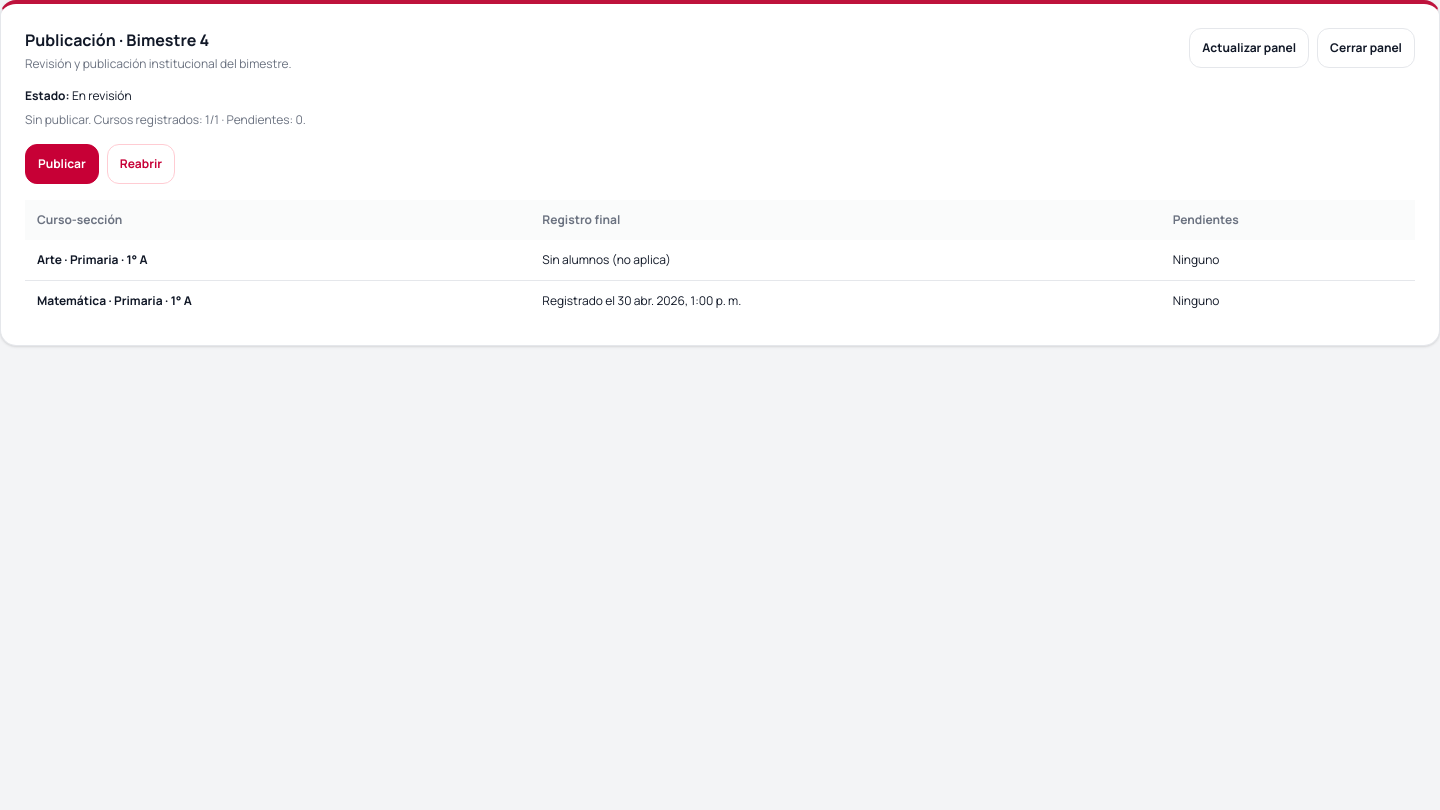
Test: publish: explicit confirmation, the shown preparationRevision, one POST and success only after a confirming reload
Click the button "Publicar": {"x": 62, "y": 164} left=25, top=144, right=99, bottom=184
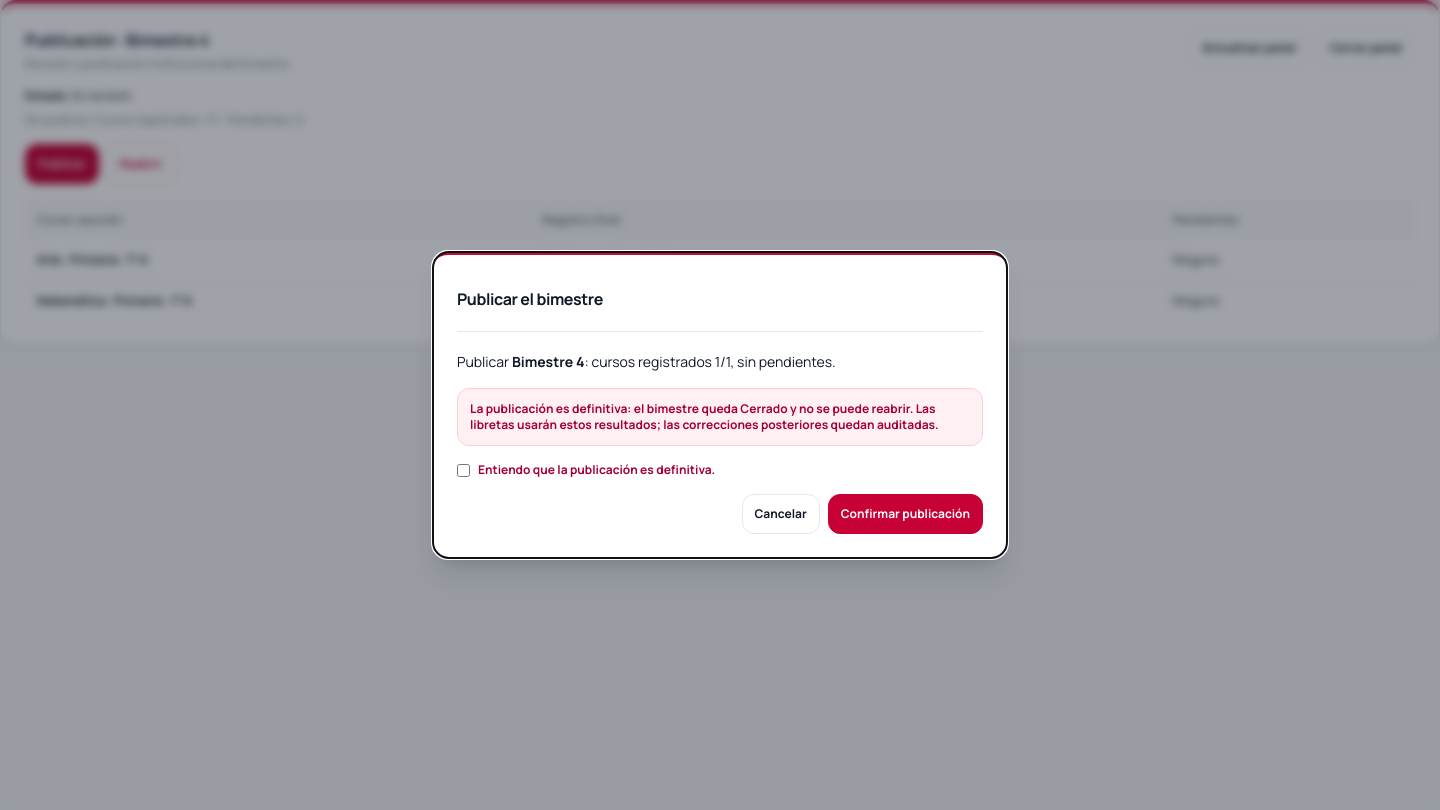
Result: the text "La publicación es definitiva: el bimestre queda Cerrado y no se puede reabrir" is shown at left=470, top=400, right=939, bottom=433
Submit the form, box left=457, top=352, right=983, bottom=534
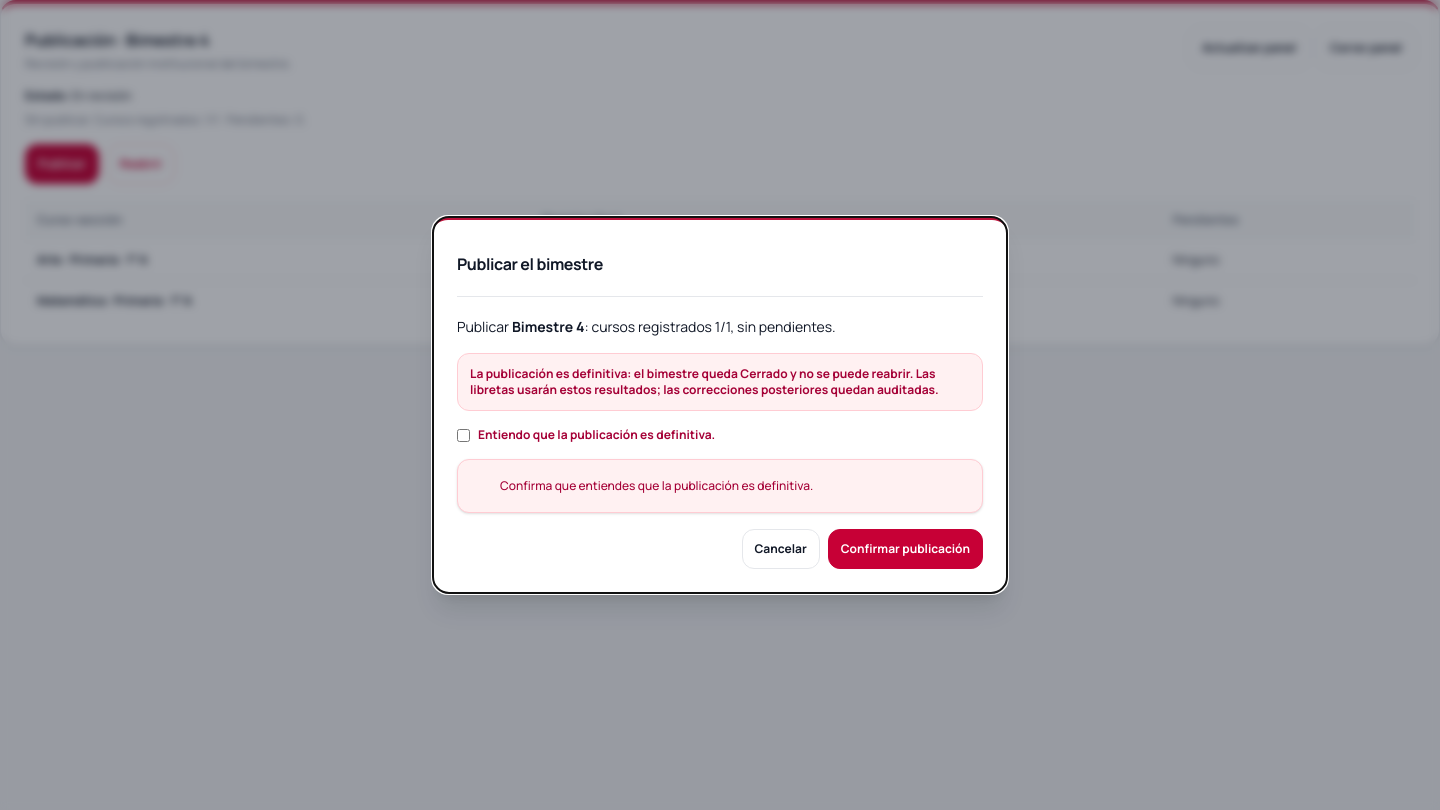
Result: the text "Confirma que entiendes que la publicación es definitiva" is shown at left=500, top=477, right=813, bottom=494
Click the checkbox labelled "Entiendo que la publicación es definitiva.": {"x": 464, "y": 435} left=457, top=428, right=470, bottom=442
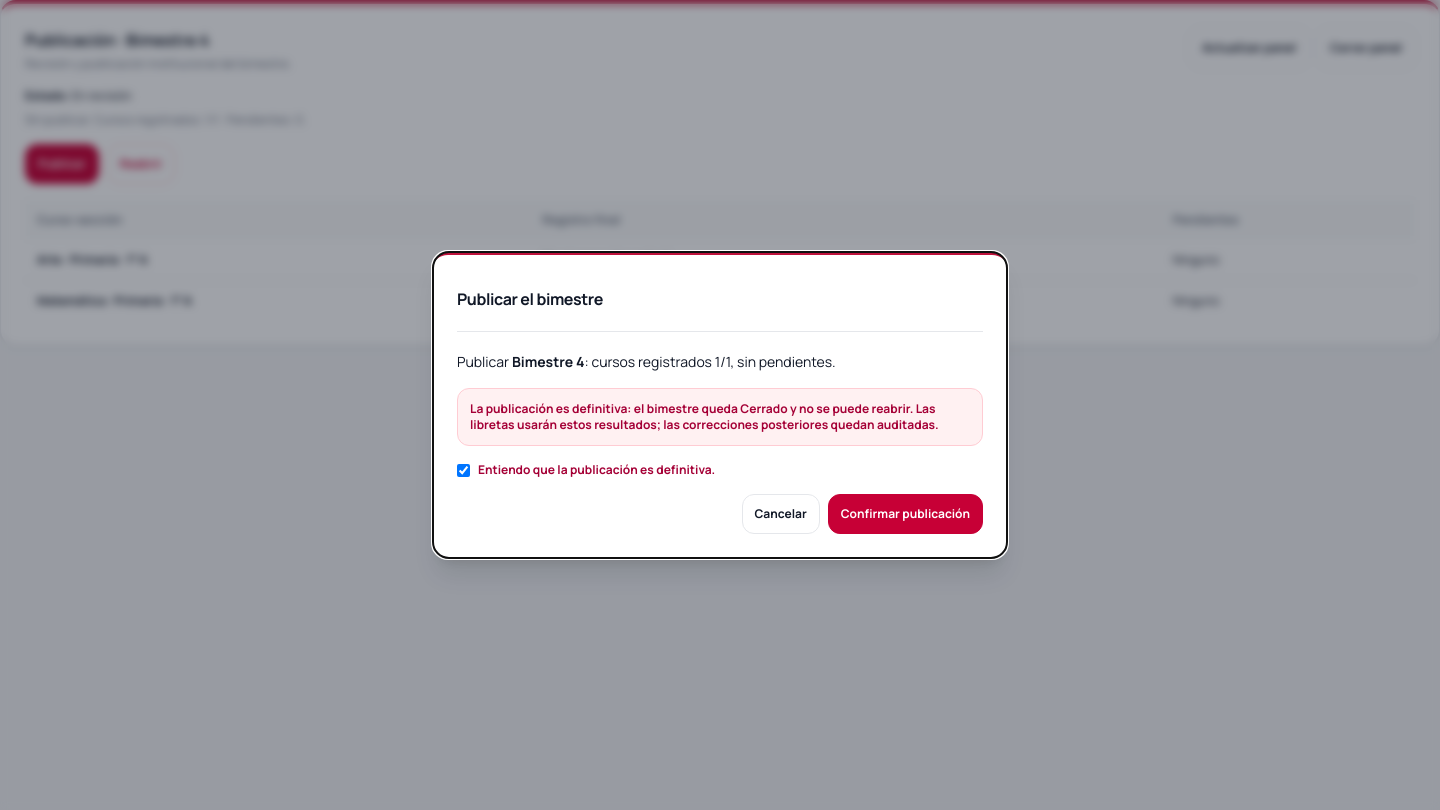
Submit the form, box left=457, top=352, right=983, bottom=534
Submit the form, box left=457, top=352, right=983, bottom=534
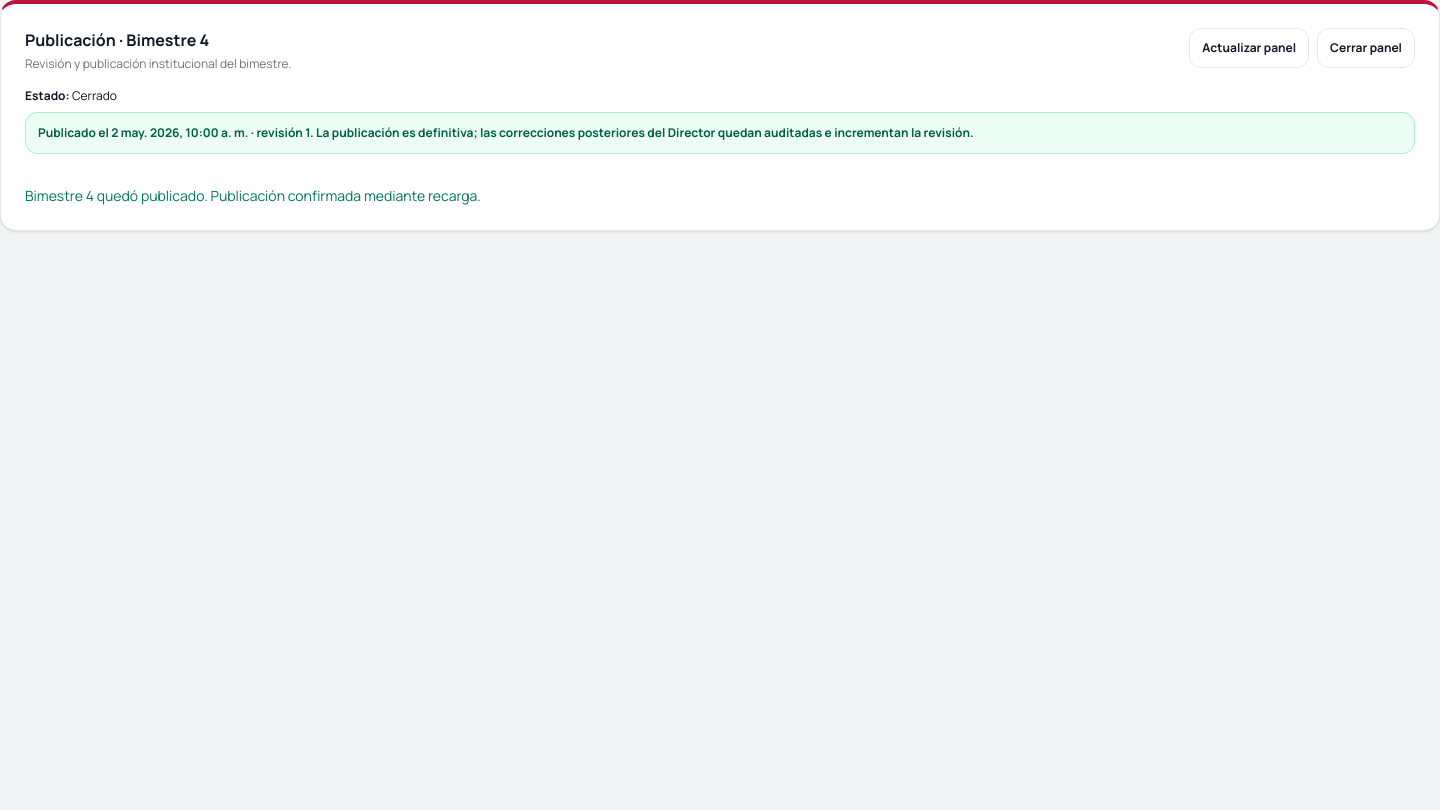
Result: the text "Bimestre 4 quedó publicado. Publicación confirmada mediante recarga." is shown at left=25, top=186, right=481, bottom=205
Result: the text "Publicado el" is shown at left=38, top=124, right=111, bottom=141
